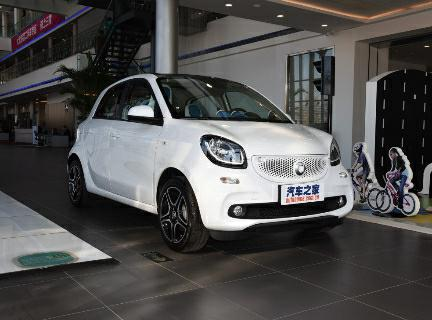smart-forfour: (59, 72, 356, 247)
